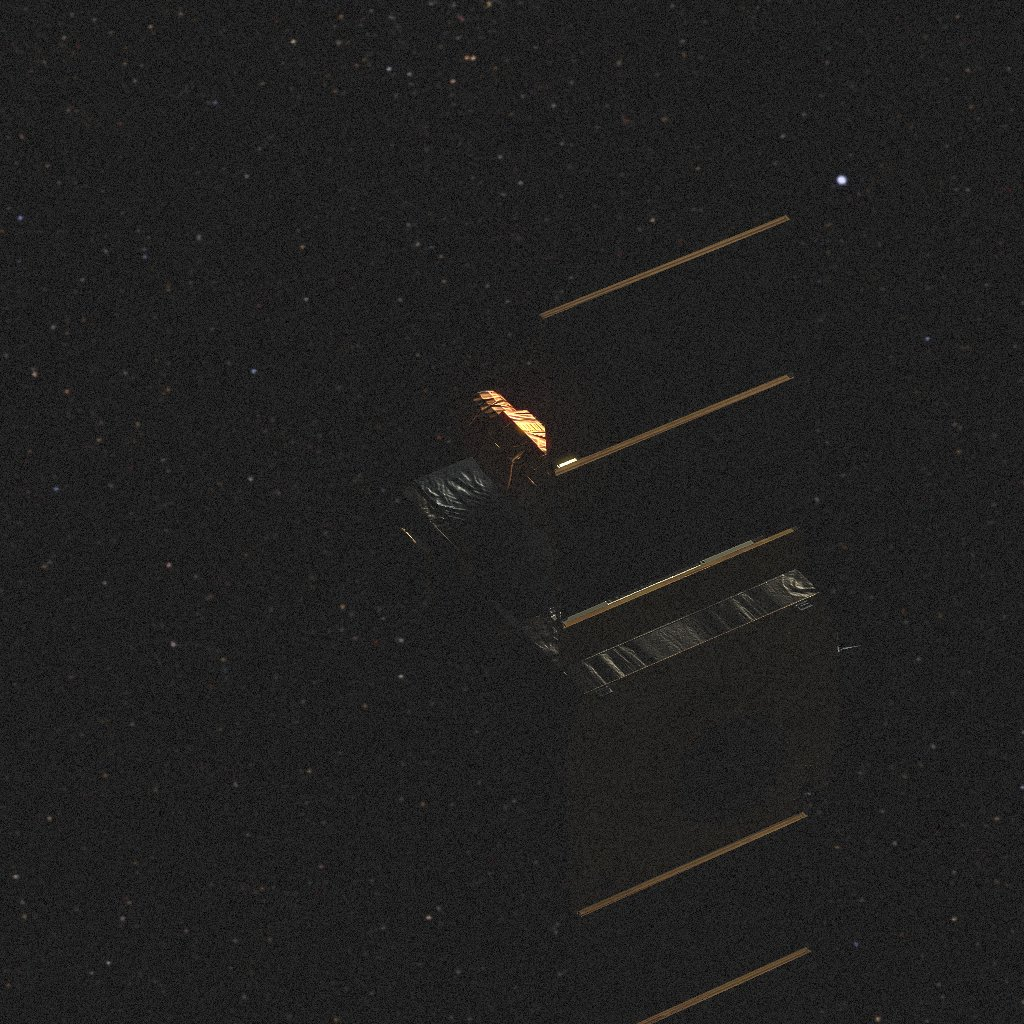soho: (378, 226, 842, 1006)
